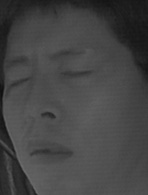blink: (59, 61, 97, 86), (4, 72, 35, 93)
mouth: (24, 134, 76, 170)
